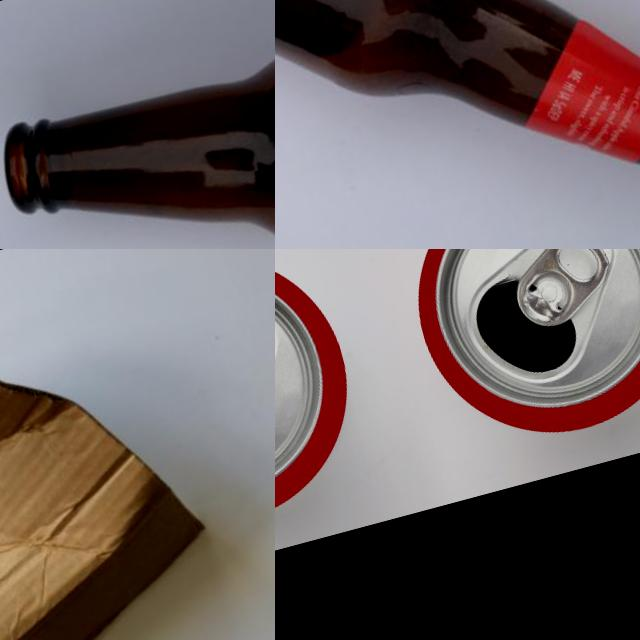aba de lata: (504, 249, 620, 333)
garrafa de vidro: (275, 0, 640, 249), (0, 0, 275, 249)
lata: (411, 249, 640, 432), (275, 249, 347, 523)
papelão: (0, 253, 240, 640)
